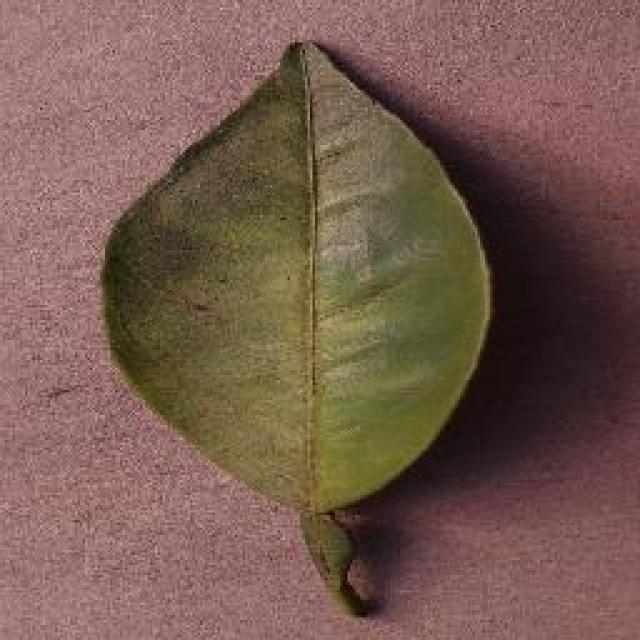Orange_Haunglongbing_Citrus_greening: (115, 141, 479, 454)
